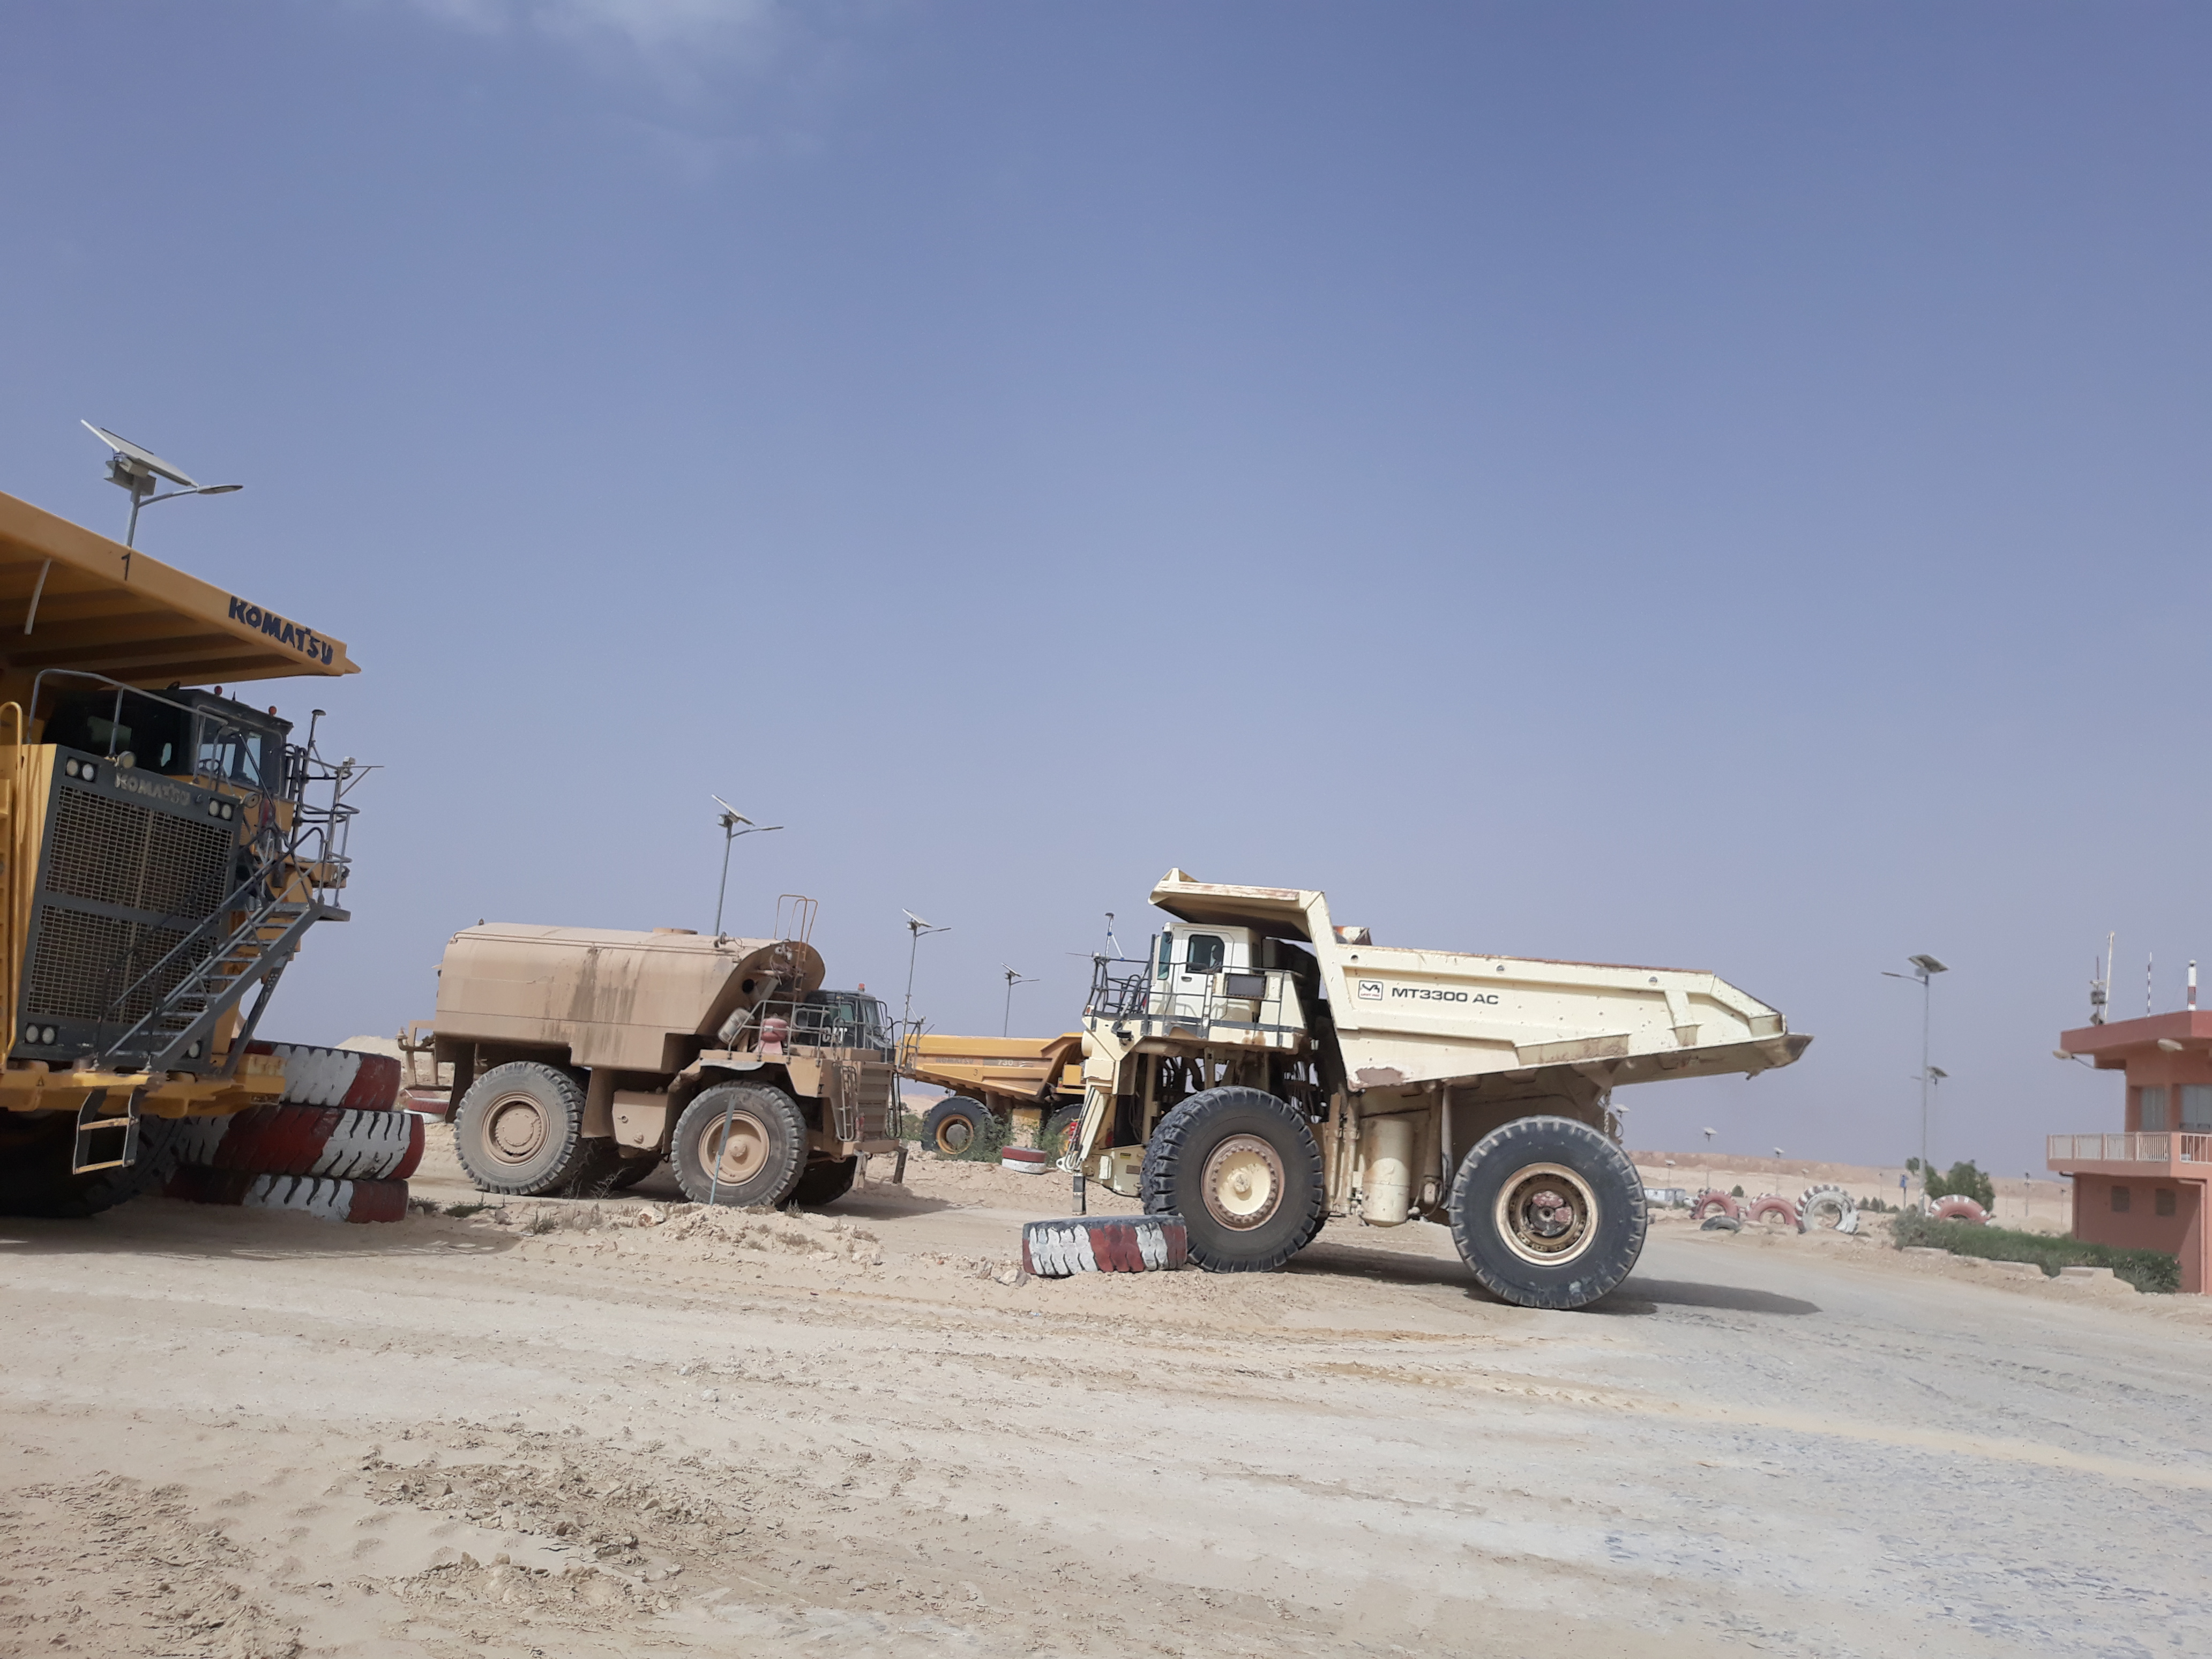camion: (1085, 857, 1843, 1340), (0, 488, 390, 1269), (853, 990, 1165, 1206)
